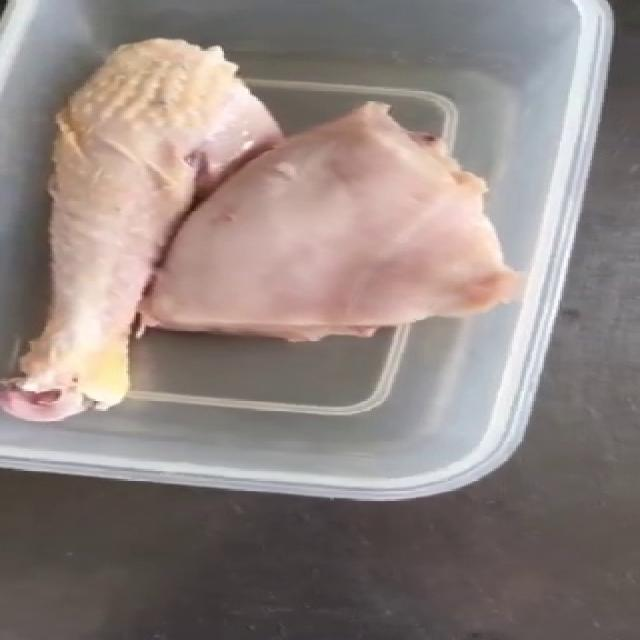chicken: (0, 28, 530, 427)
